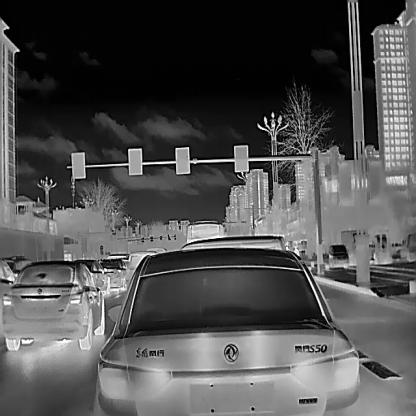bus: (186, 219, 225, 242)
car: (92, 247, 360, 415), (2, 260, 104, 349), (75, 259, 110, 294), (98, 258, 126, 290), (0, 255, 36, 272), (328, 243, 349, 268), (400, 232, 415, 261)
